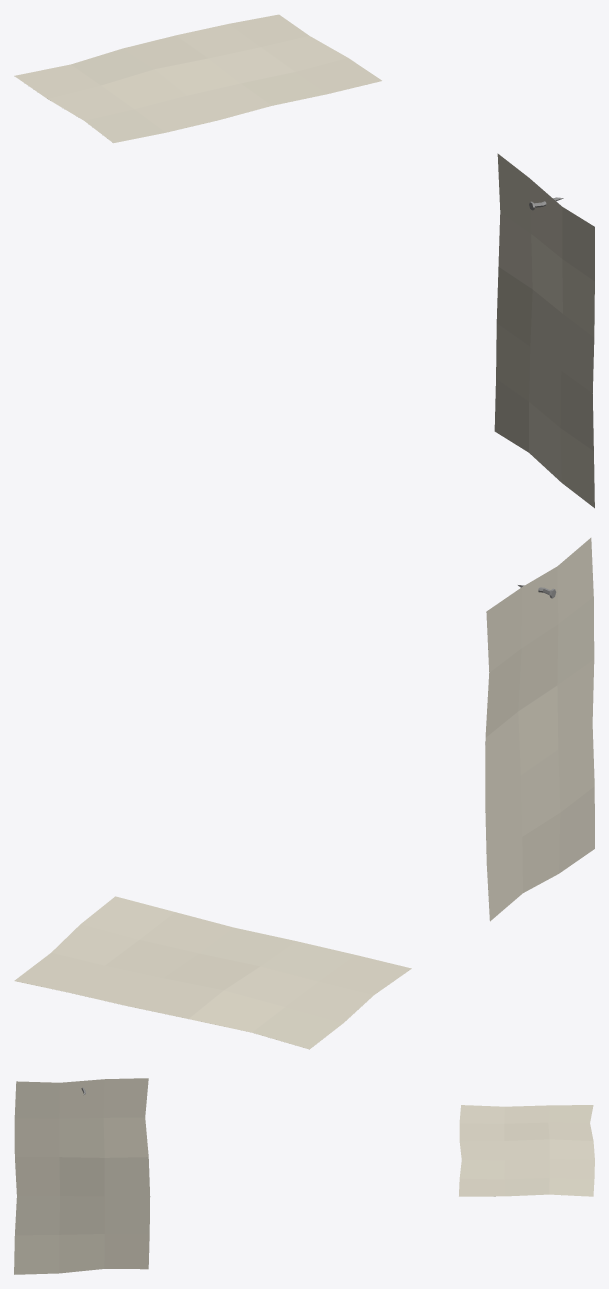
The model's file is pagePackage.fbx.
3 views of the same model, one above another, from view 1: azimuth 30°, elevation 25°; view 2: azimuth 150°, elevation 25°; view 3: azimuth 270°, elevation 25° (orthographic). The views are drawn at different scales.
Parts seen in each view (by area): view 1: Page_Wall, Page; view 2: Page_Wall, Page; view 3: Page_Wall, Page.
Part boxes in pixels (left/top/right/bottom): Page_Wall: left=494, top=153, right=594, bottom=508; Page: left=14, top=14, right=381, bottom=143; Page_Wall: left=485, top=537, right=594, bottom=921; Page: left=14, top=896, right=411, bottom=1049; Page_Wall: left=14, top=1078, right=150, bottom=1274; Page: left=459, top=1105, right=594, bottom=1196.
Size of the model in its own units: 0.2575 by 0.2575 by 0.6893.
